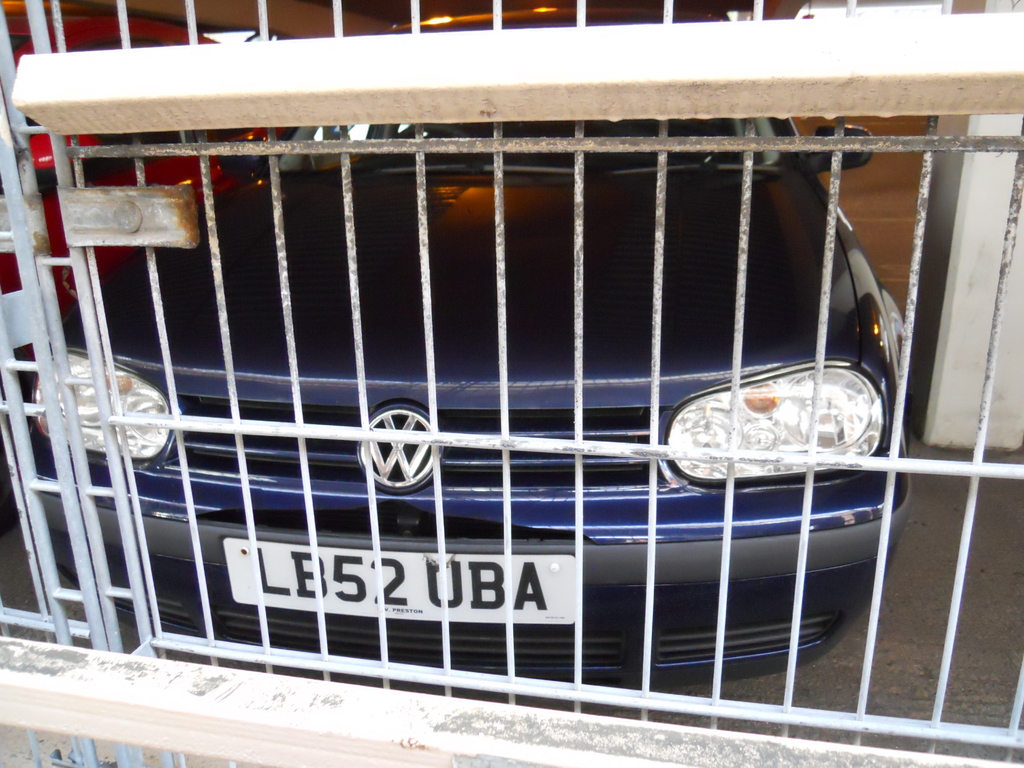Car: (0, 58, 937, 768)
